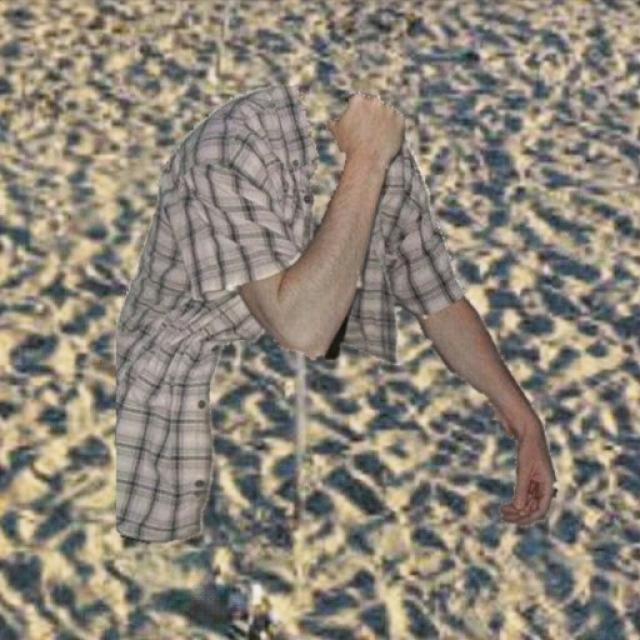Person in Rubble: (117, 86, 558, 544)
